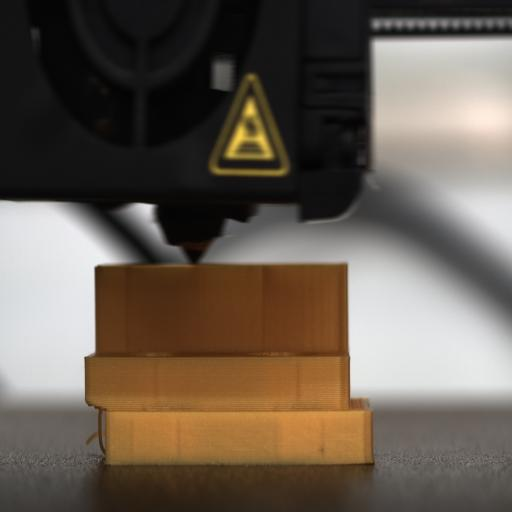layer_shift: (82, 388, 373, 421)
